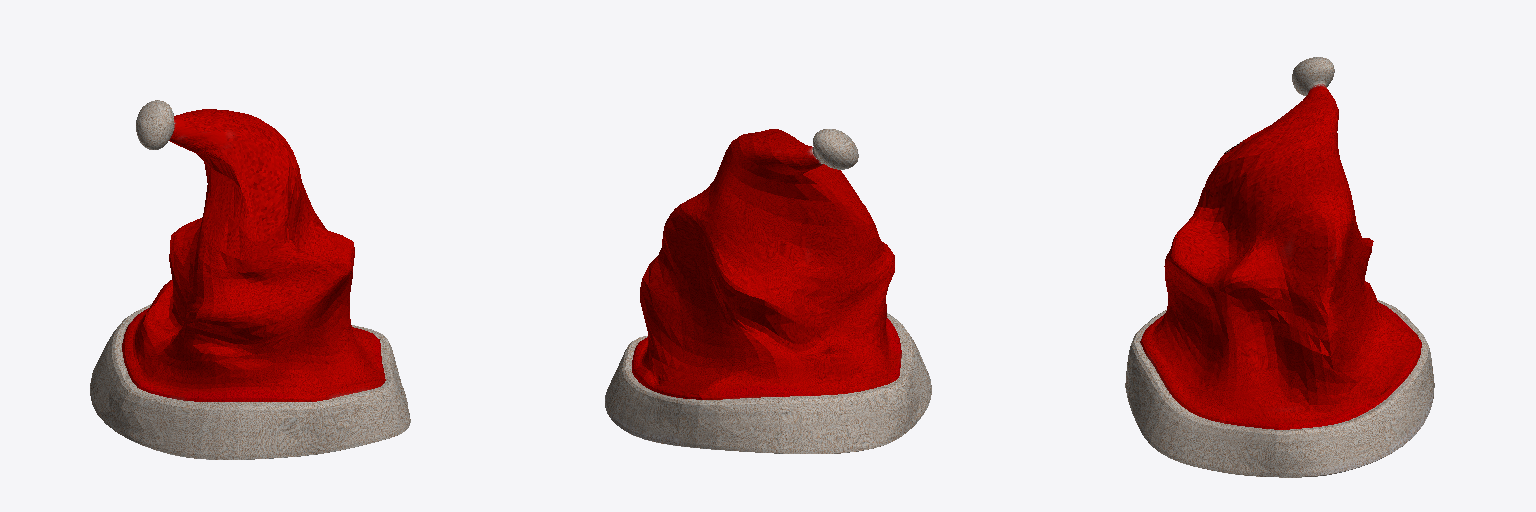
The picture shows the model from 3 angles: view 1: azimuth 30°, elevation 25°; view 2: azimuth 150°, elevation 25°; view 3: azimuth 270°, elevation 25°; orthographic projection.
Parts seen in each view (by area): view 1: Object.1; view 2: Object.1; view 3: Object.1.
Part boxes in pixels (x1,y1,x2,y2): Object.1: (90, 100, 410, 459); Object.1: (605, 129, 931, 453); Object.1: (1125, 57, 1434, 477).
Bounding box in the file's own units: 0.2964 × 0.3225 × 0.2842.
1 materials, 1 textured.